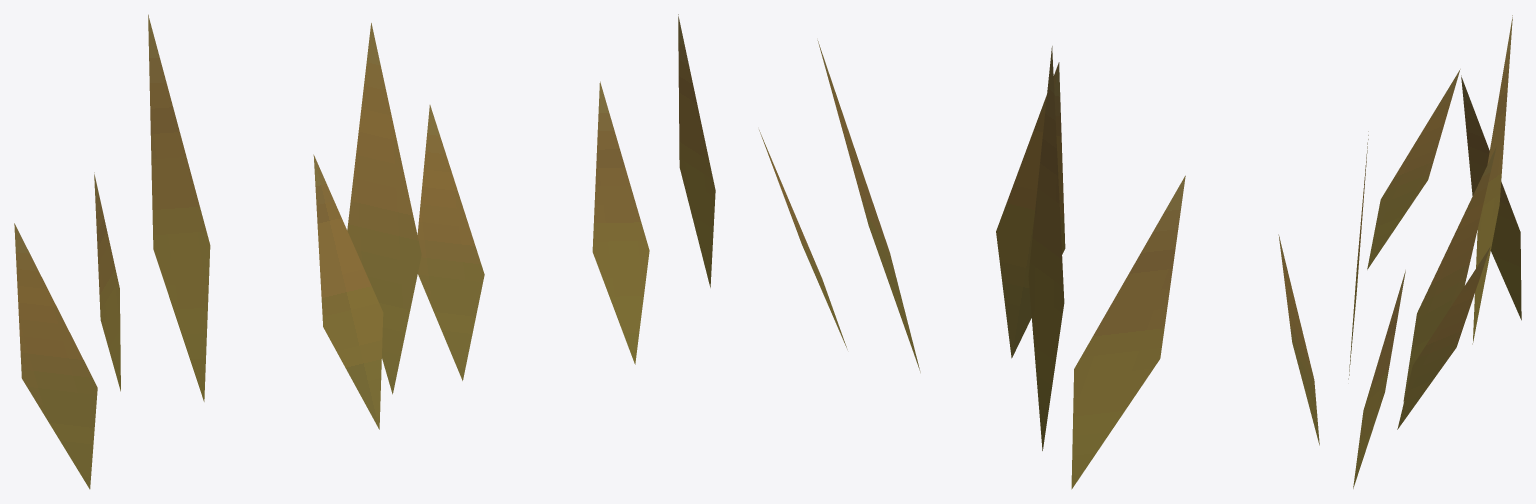
Rendered from plants_me_main_grass62.gltf.
3 renders of one model, left to right at view 1: azimuth 30°, elevation 25°; view 2: azimuth 150°, elevation 25°; view 3: azimuth 270°, elevation 25°, orthographic. The views are drawn at different scales.
Visible parts, largest first — view 1: um_plants_me_main_grass62_model_plants_me_main_grass62_model; view 2: um_plants_me_main_grass62_model_plants_me_main_grass62_model; view 3: um_plants_me_main_grass62_model_plants_me_main_grass62_model.
Part boxes in pixels (left/top/right/bottom): um_plants_me_main_grass62_model_plants_me_main_grass62_model: left=14, top=14, right=649, bottom=489; um_plants_me_main_grass62_model_plants_me_main_grass62_model: left=678, top=14, right=1319, bottom=489; um_plants_me_main_grass62_model_plants_me_main_grass62_model: left=1348, top=15, right=1521, bottom=488.
Bounding box in the file's own units: 0.5503 × 0.3383 × 0.1672.
Materials: 1 (1 with a texture image).
